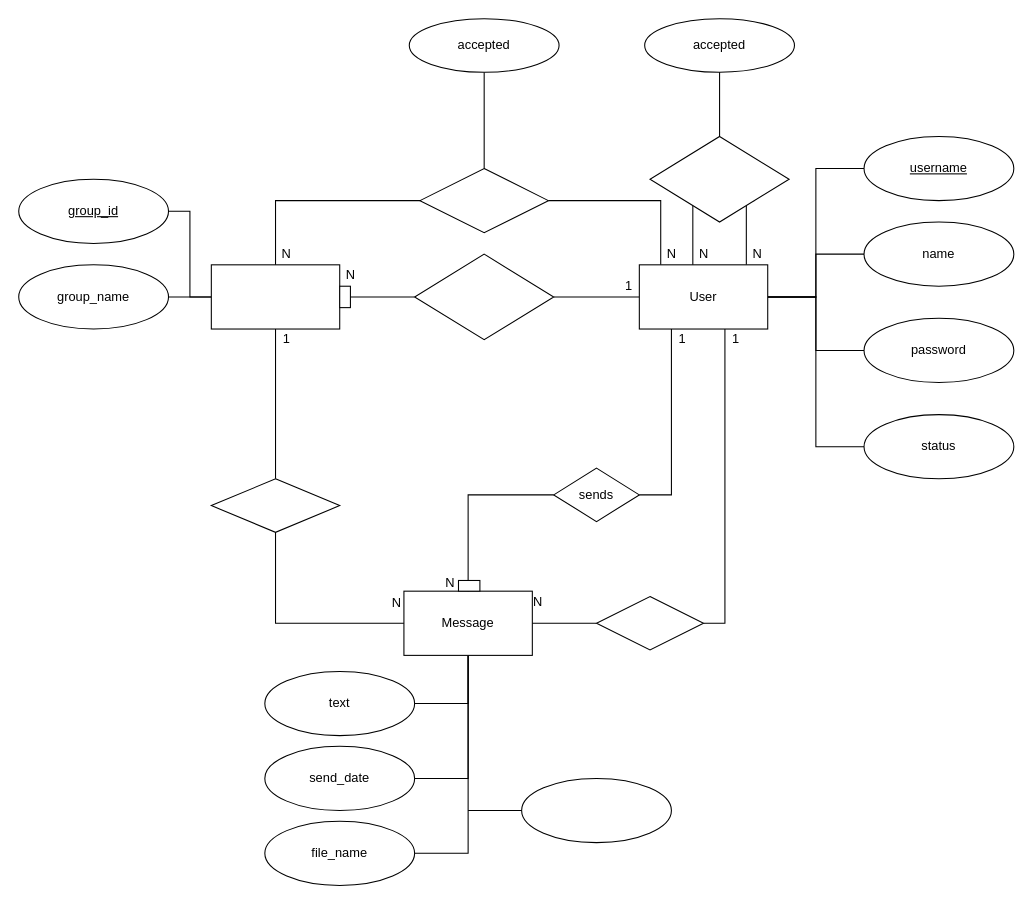
The diagram is 1033 pixels wide and 904 high, and some of its shapes have lost their labels. Each missing label, with the centre of its shape:
"ChatGroup" belongs at point 275,296.
"contactOf" belongs at point 719,178.
"groupReceives" belongs at point 275,505.
"isPartOf" belongs at point 483,200.
"manages" belongs at point 484,296.
"message_id" belongs at point 596,810.
"userReceives" belongs at point 649,622.
